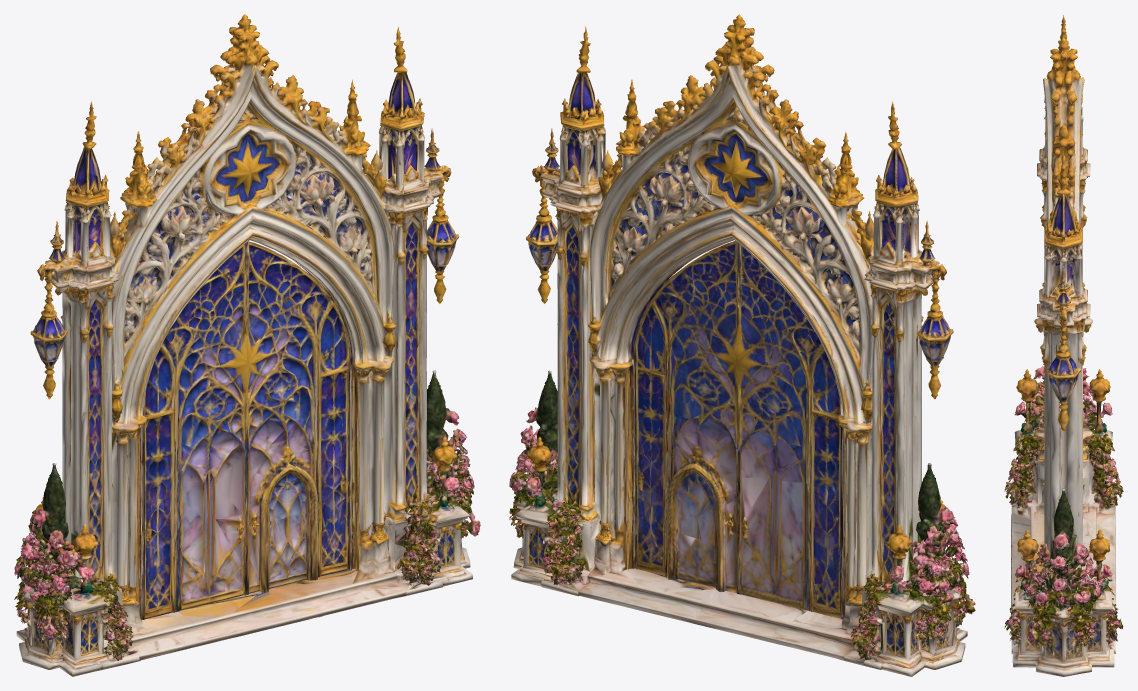
Rendered from Royal_Portal_Gate.glb.
3 views of the same model, side by side, from view 1: azimuth 30°, elevation 25°; view 2: azimuth 150°, elevation 25°; view 3: azimuth 270°, elevation 25° (orthographic). The views are drawn at different scales.
Visible parts, largest first — view 1: Royal_Portal_Gate; view 2: Royal_Portal_Gate; view 3: Royal_Portal_Gate.
Part boxes in pixels (<box>): Royal_Portal_Gate: <box>14,14,480,676</box>; Royal_Portal_Gate: <box>509,14,975,676</box>; Royal_Portal_Gate: <box>1004,15,1123,676</box>.
Size of the model in its own units: 1.49 by 1.9 by 0.3813.
1 material, 1 textured.
